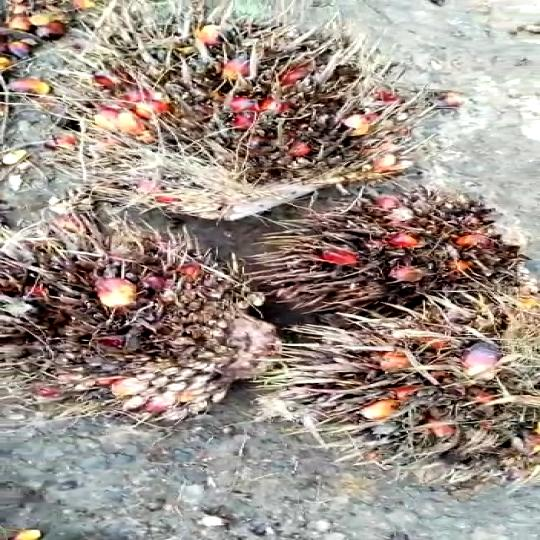terlalu masak: (0, 19, 437, 219), (0, 216, 291, 430), (261, 284, 540, 493), (249, 191, 531, 325)
